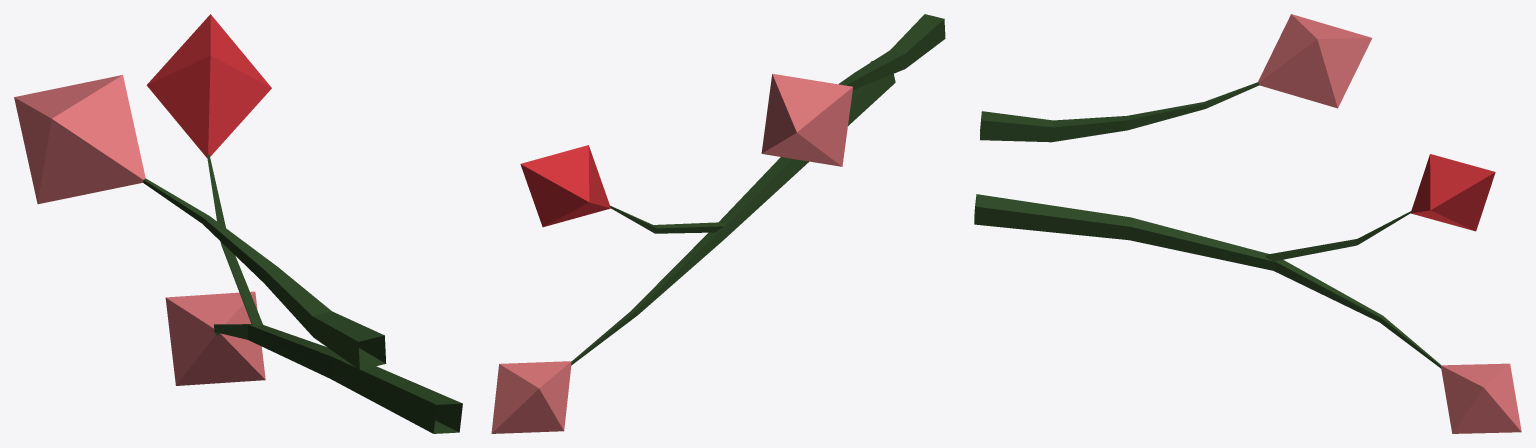
The model's file is Flower 01.FBX.
3 renders of one model, left to right at view 1: azimuth 30°, elevation 25°; view 2: azimuth 150°, elevation 25°; view 3: azimuth 270°, elevation 25°, orthographic. The views are drawn at different scales.
Parts seen in each view (by area): view 1: Flower 01; view 2: Flower 01; view 3: Flower 01.
Boxes of the visible parts, bbox=[...] form: Flower 01: bbox=[14, 14, 462, 433]; Flower 01: bbox=[491, 14, 945, 433]; Flower 01: bbox=[974, 14, 1521, 433].
Bounding box in the file's own units: 26.75 × 52.13 × 32.87.
